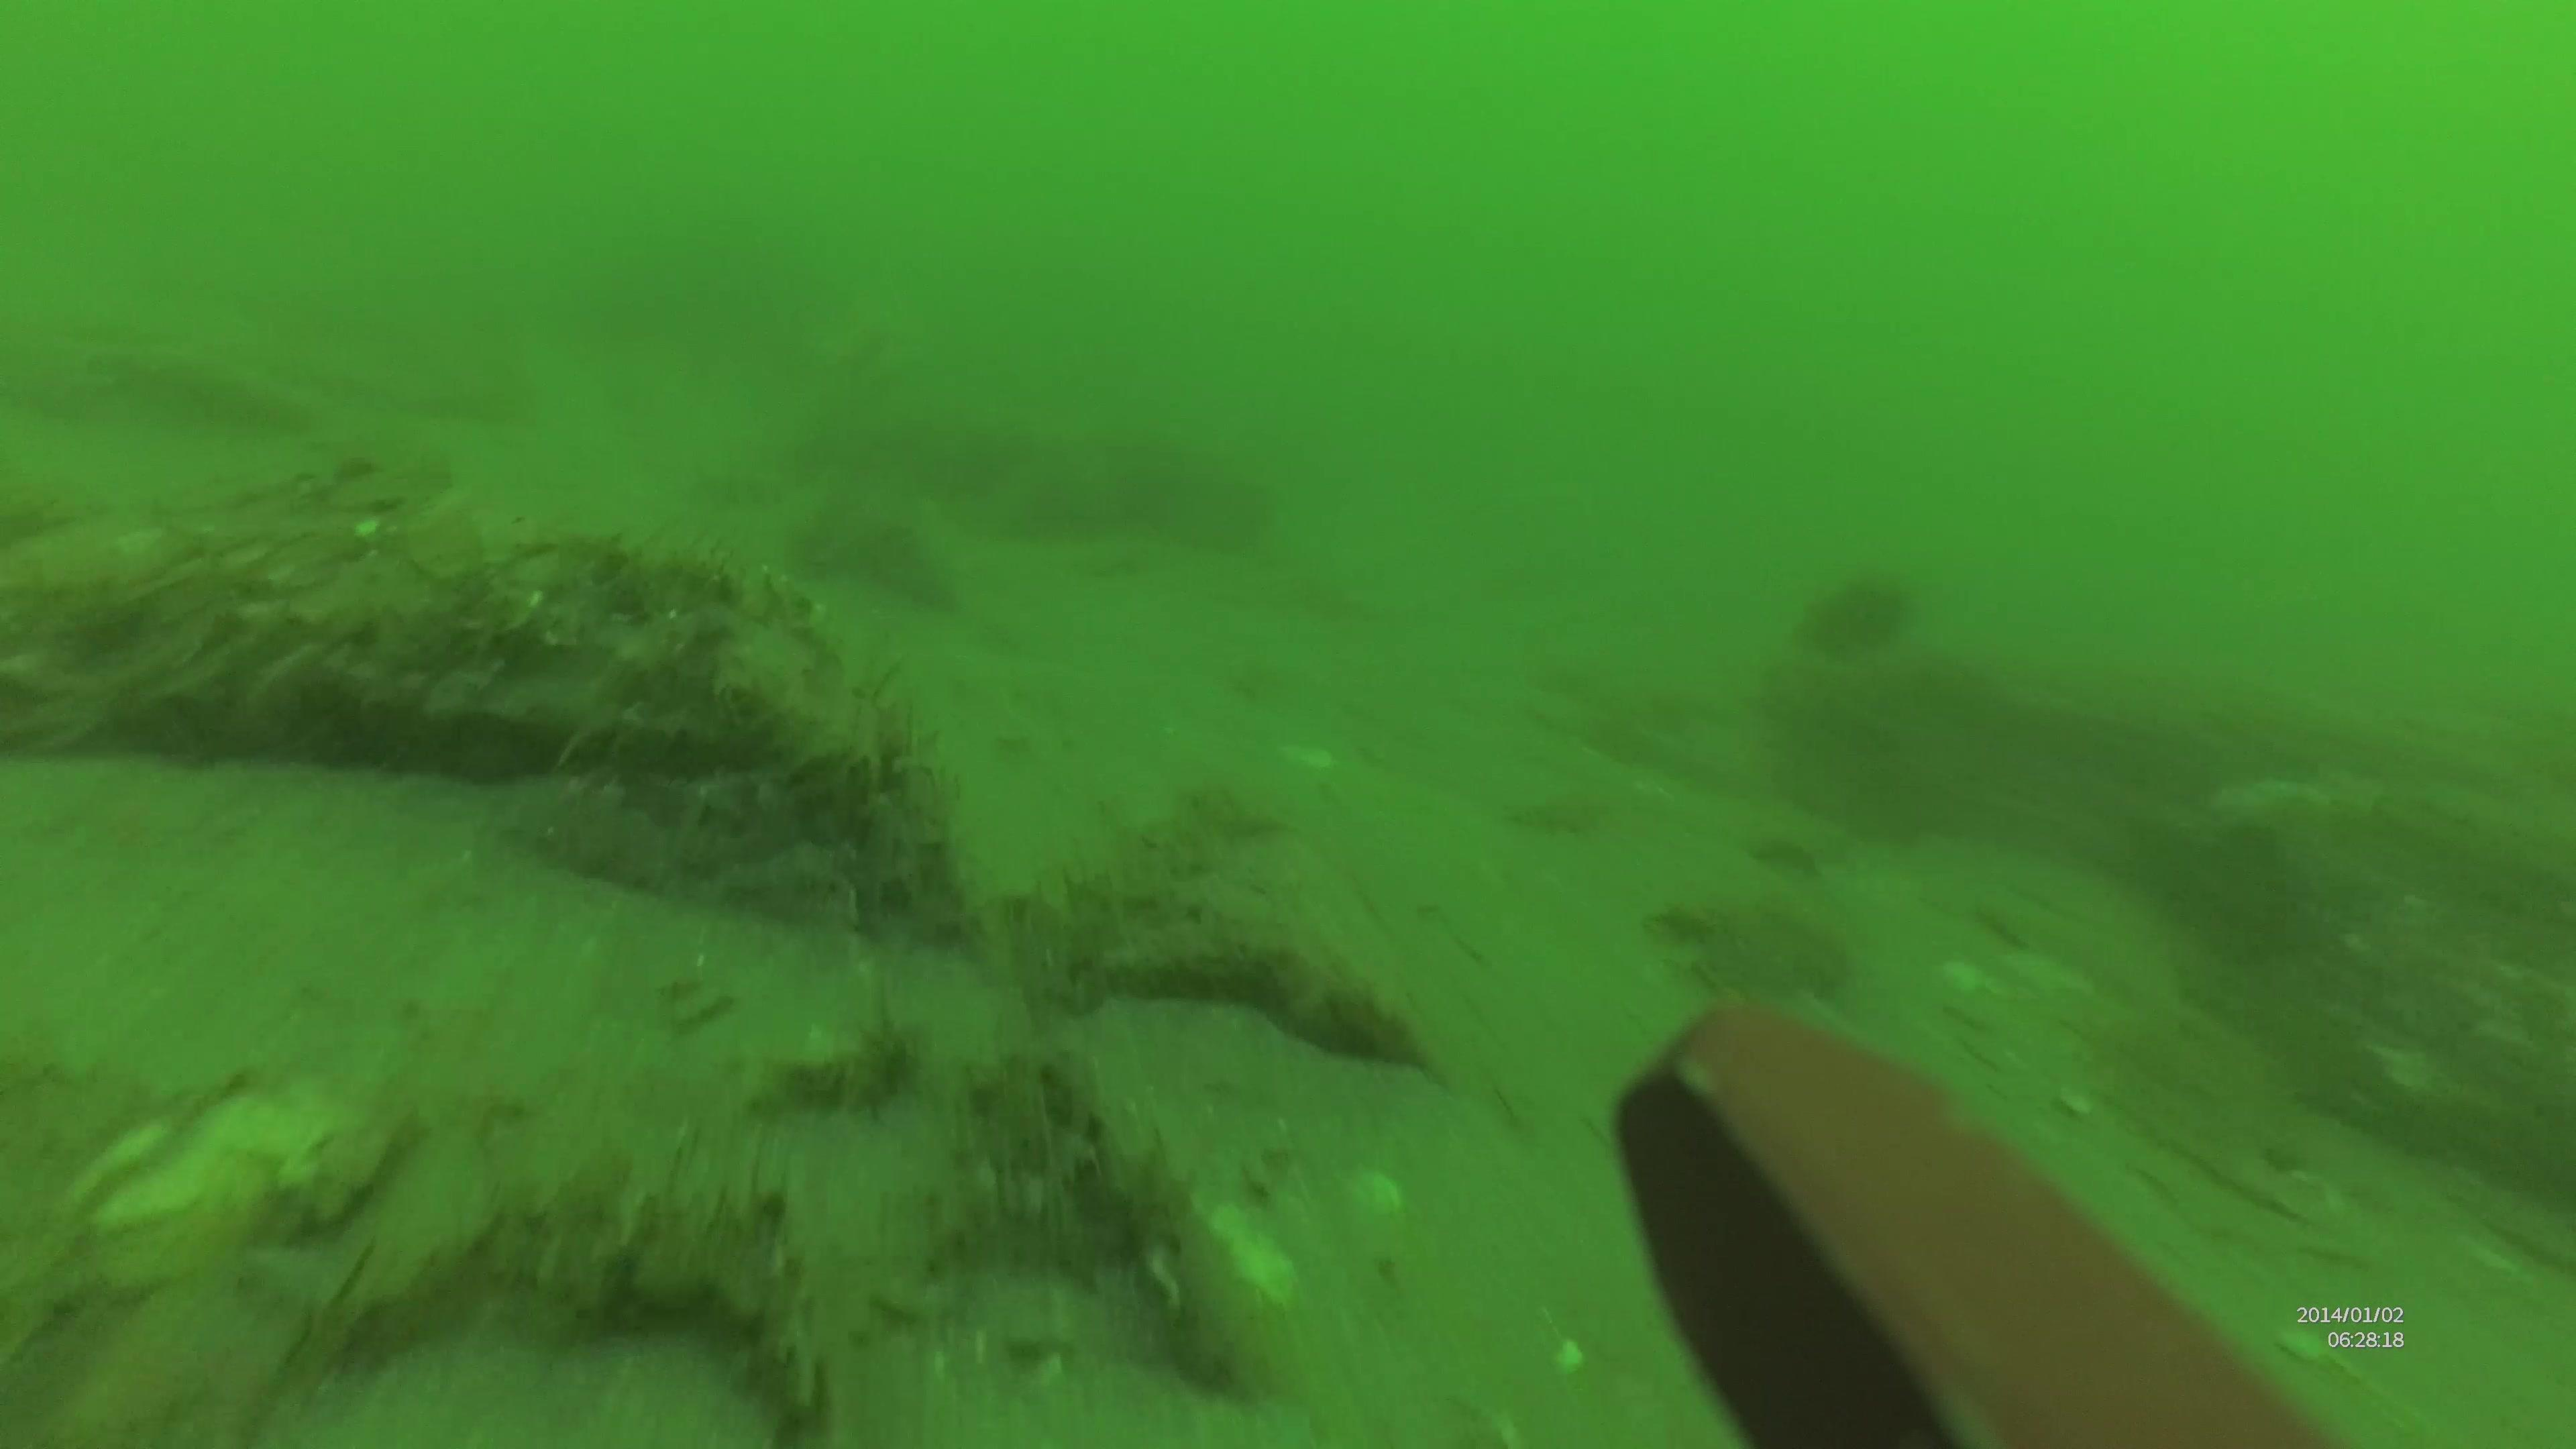echinus: (1792, 554, 1916, 669)
